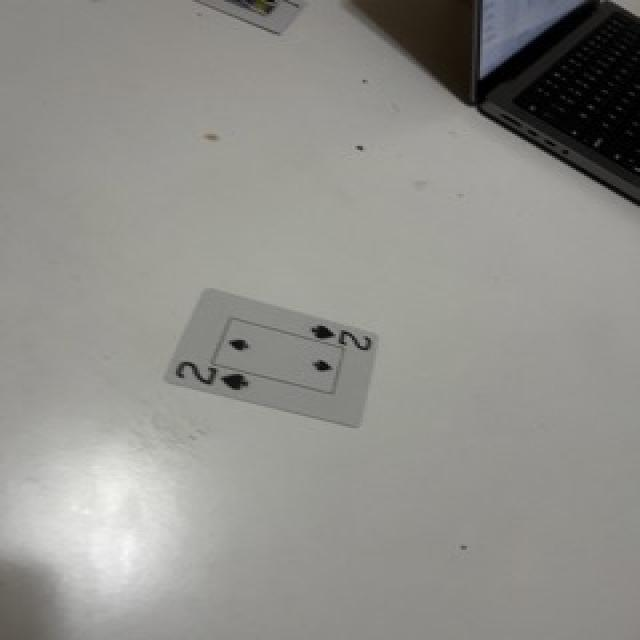2 of spades: (165, 289, 377, 428)
